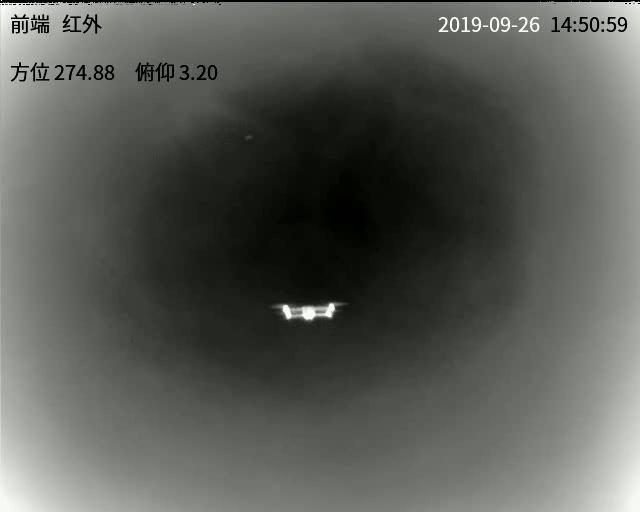DRONE: (275, 301, 341, 322)
